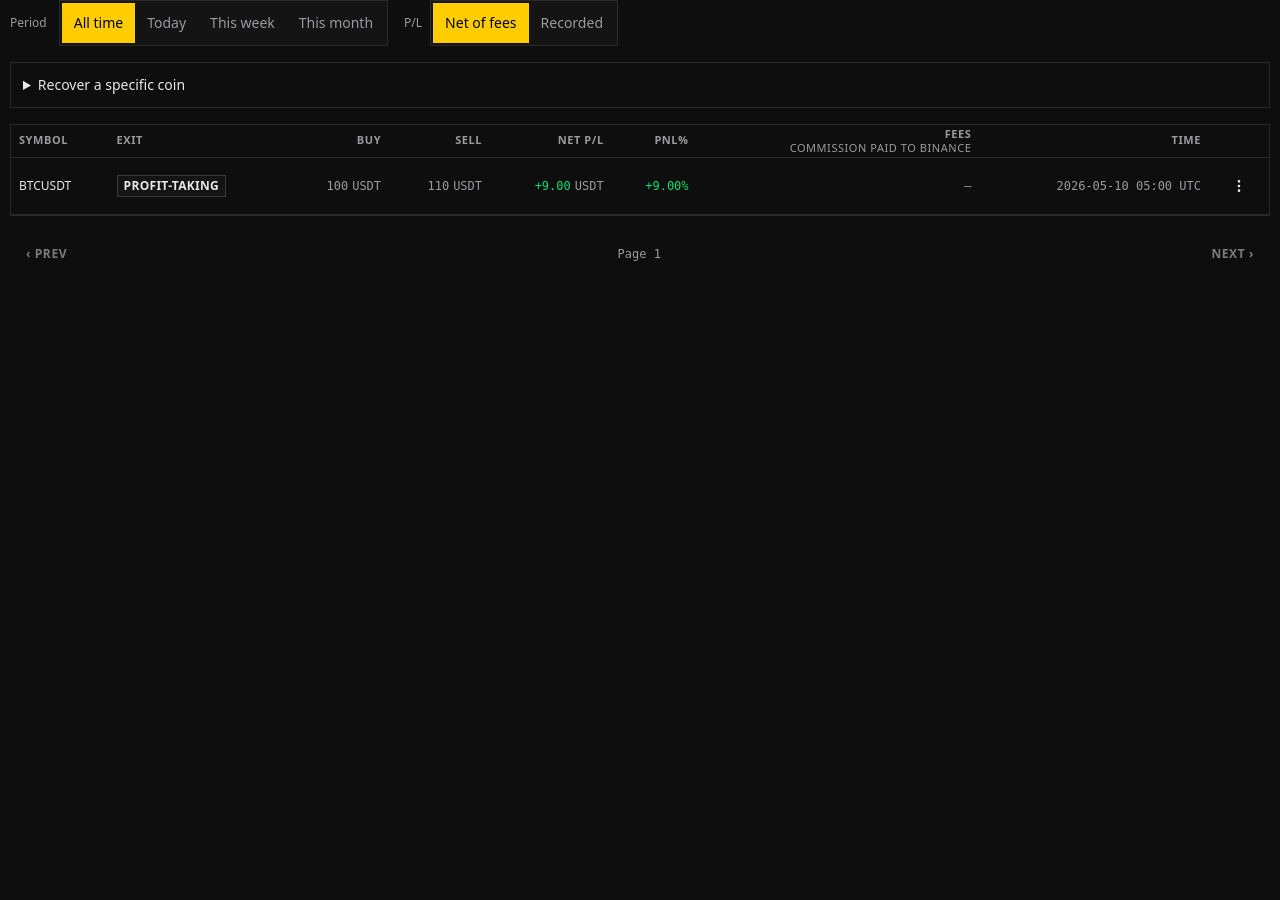
Test case: <TradeArchivePanel> recovery nudge › opens the delete-confirm dialog from a row overflow menu
The width and height of the screenshot is (1280, 900).
Click the button with test id "archive-row-actions-arch-1" at (1239, 186), box [1217, 164, 1261, 208]
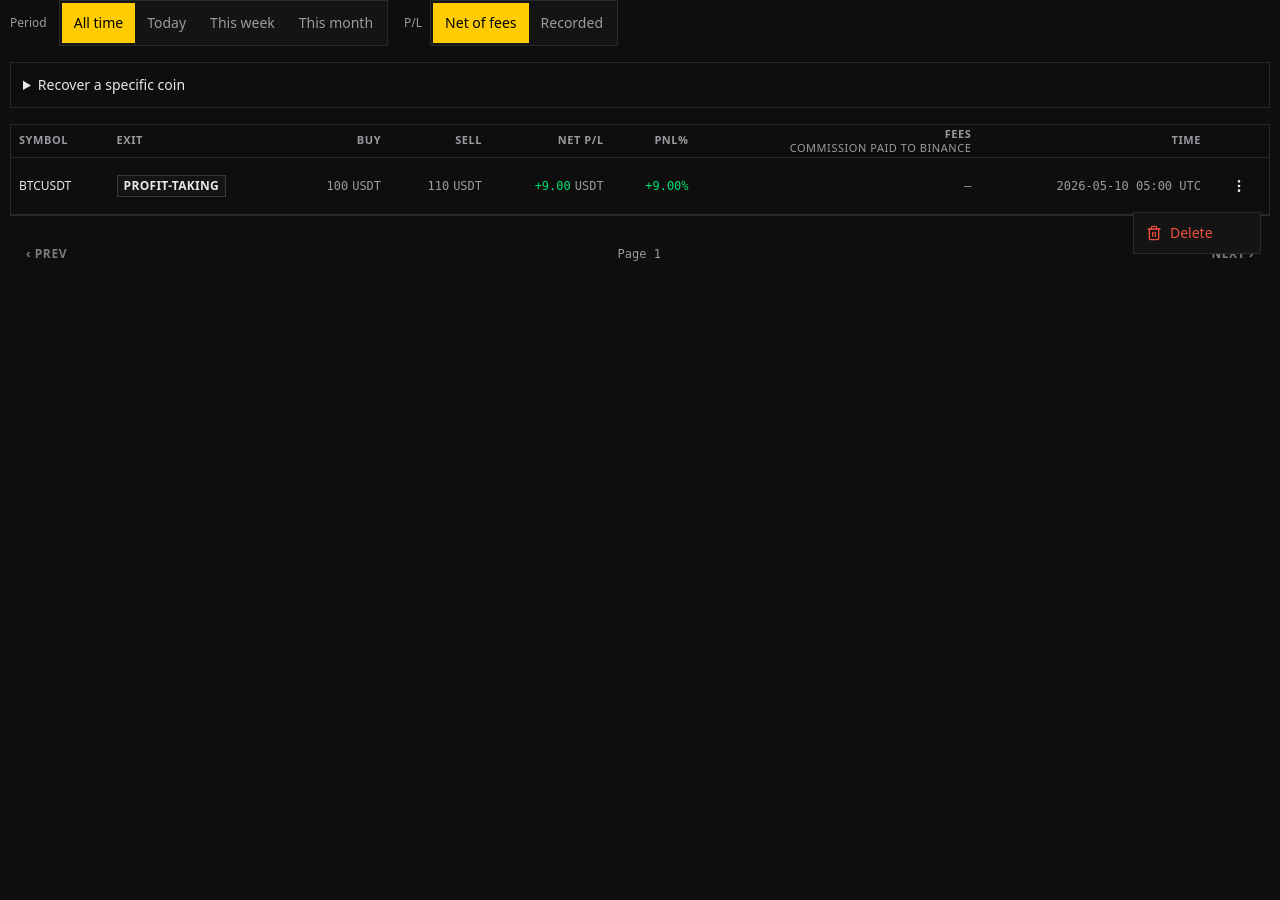
Click the menu item with test id "archive-delete-arch-1" at (1179, 232), box [1146, 223, 1213, 242]
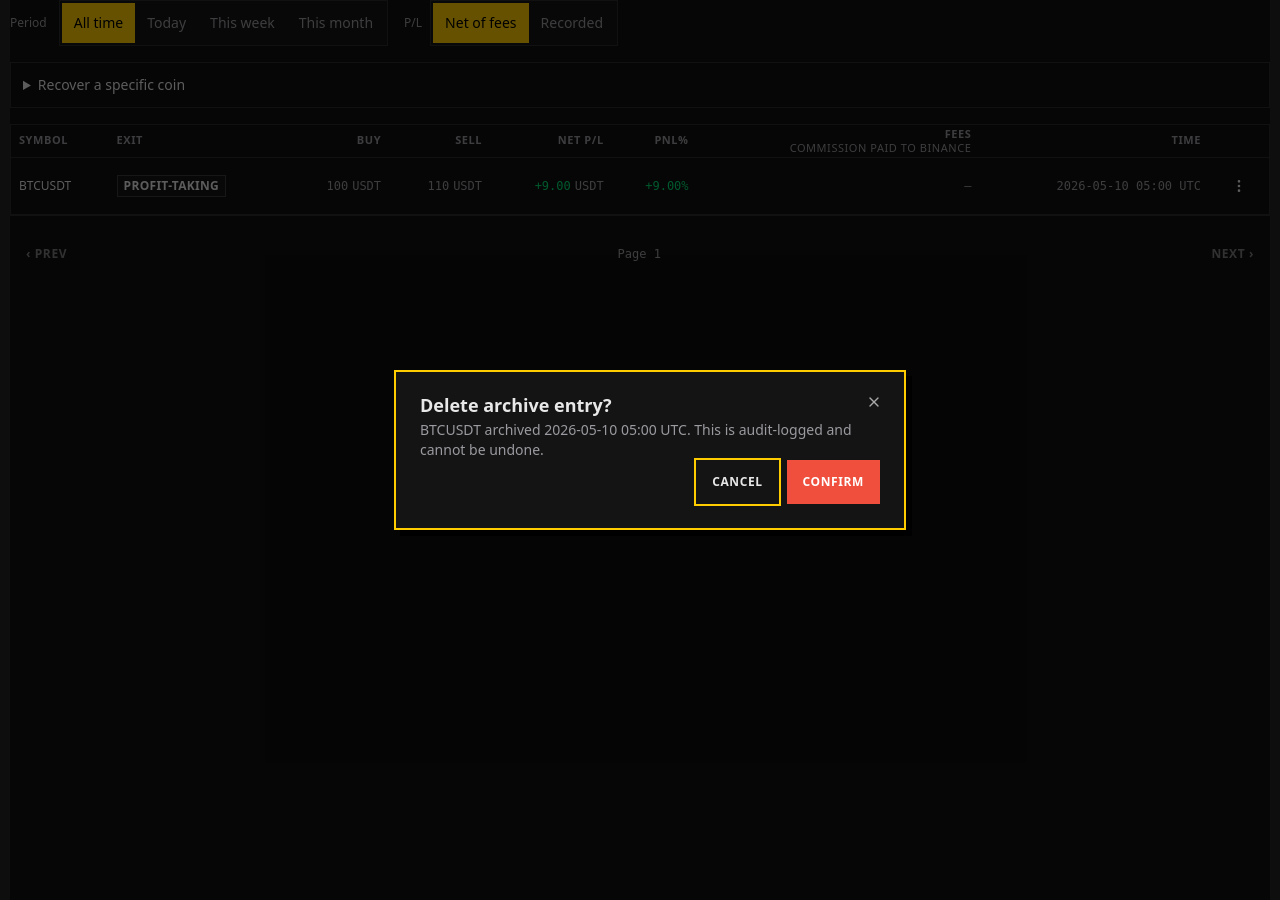
Now the heading "Delete archive entry?" is shown, box [420, 393, 612, 417]
